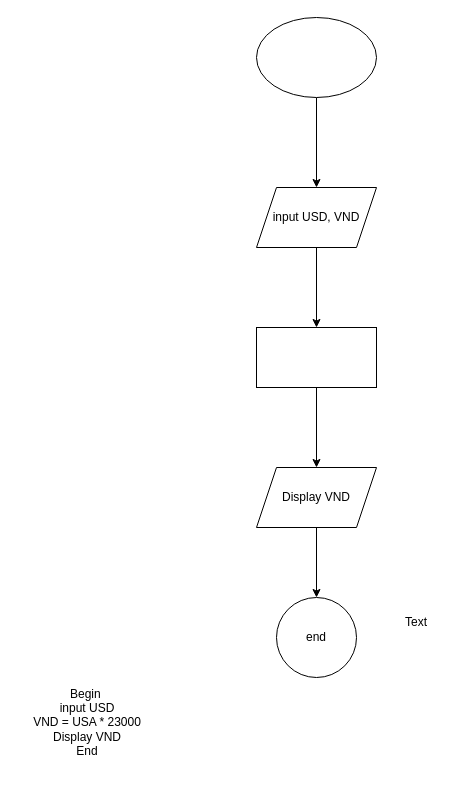
Image size: 463x785. Some labels were removed from this diagram. The centre of each missing label's shape, as x and y in pixels:
"Begin" belongs at (x=316, y=57).
"VND = USD * 23000" belongs at (x=316, y=357).
